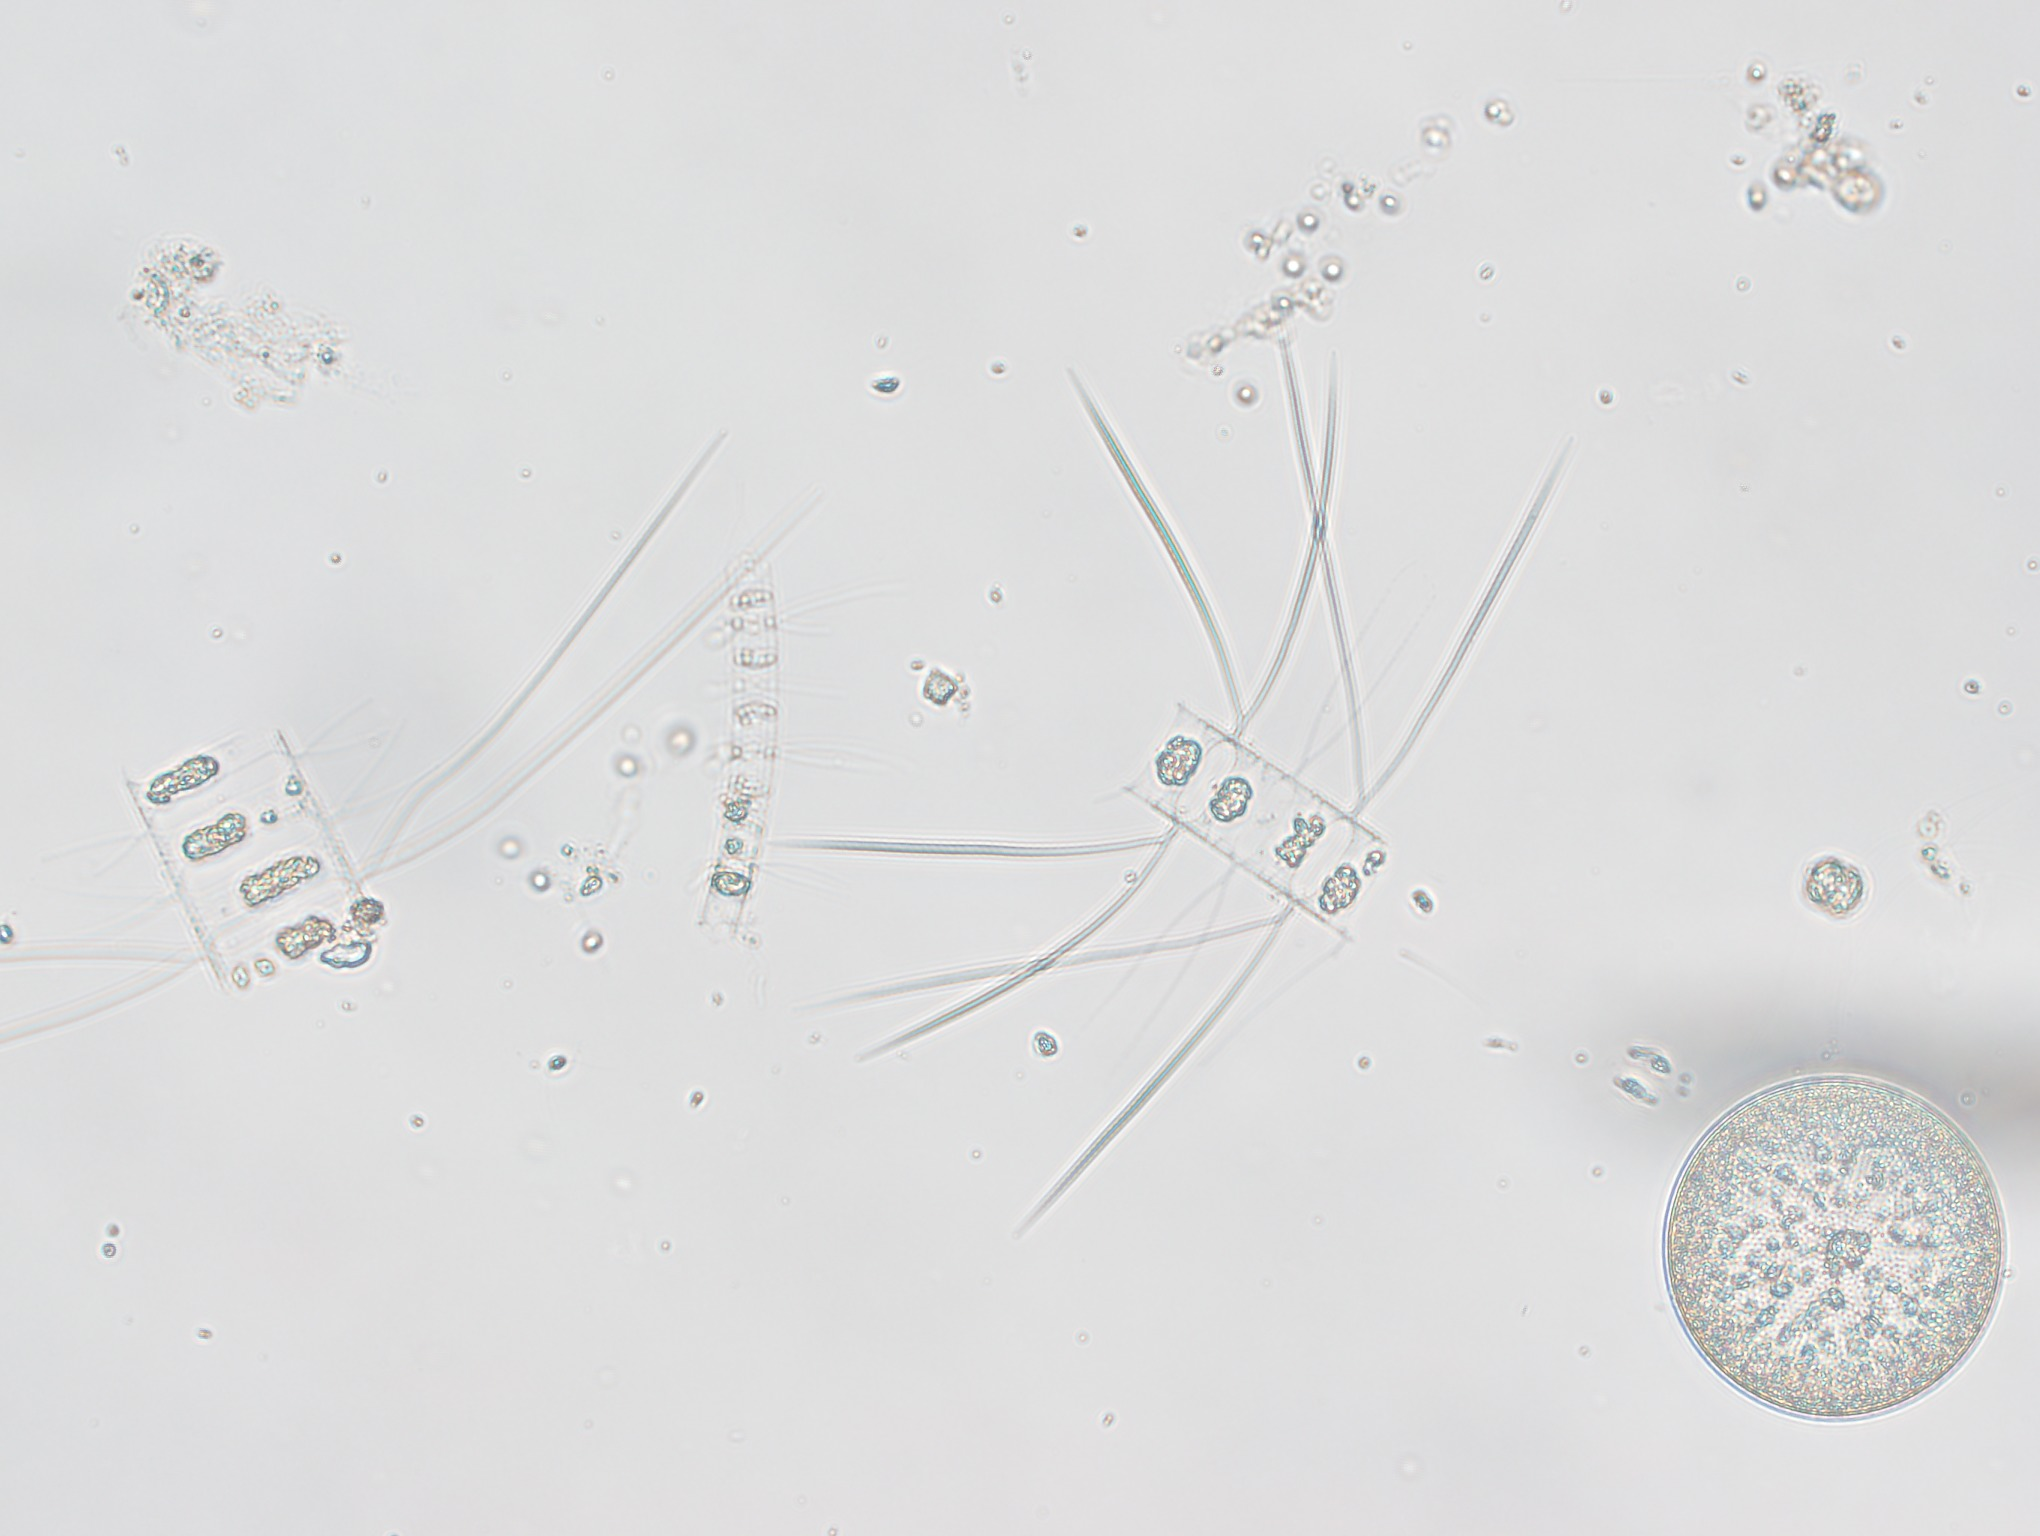chaetoceros: (819, 311, 1579, 1242), (19, 384, 660, 1084)
coscinodiscus: (1642, 1066, 2021, 1428)
